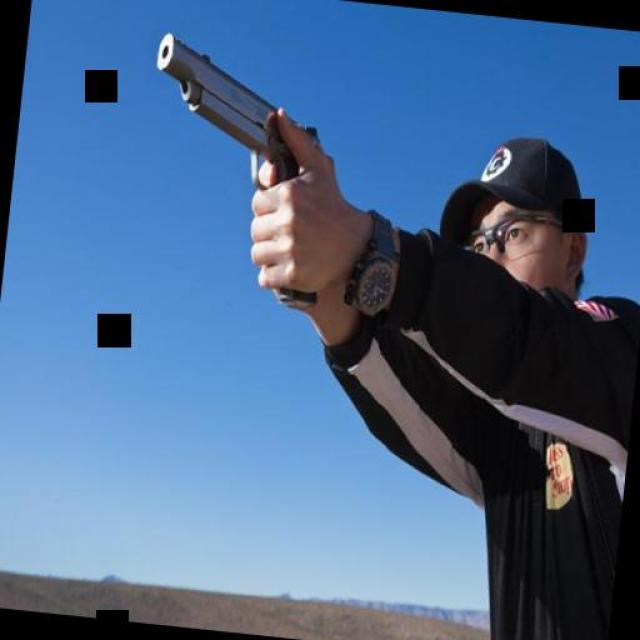gun: (126, 19, 359, 318)
